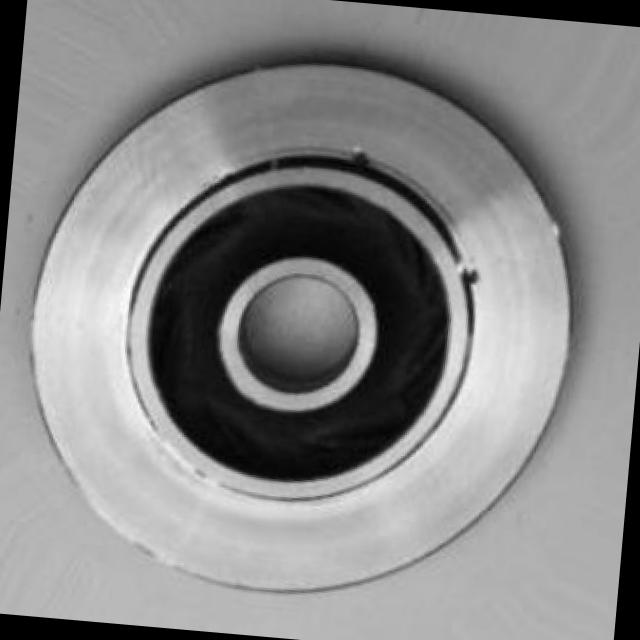Defect: (452, 250, 488, 300)
